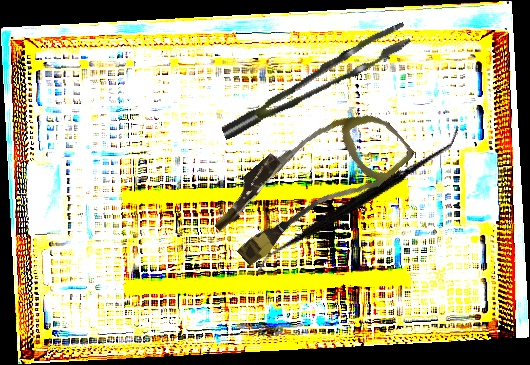Cannula: (202, 81, 417, 285)
Spatula Surgical: (255, 74, 460, 325)
Tissue Forceps: (210, 22, 419, 140)
